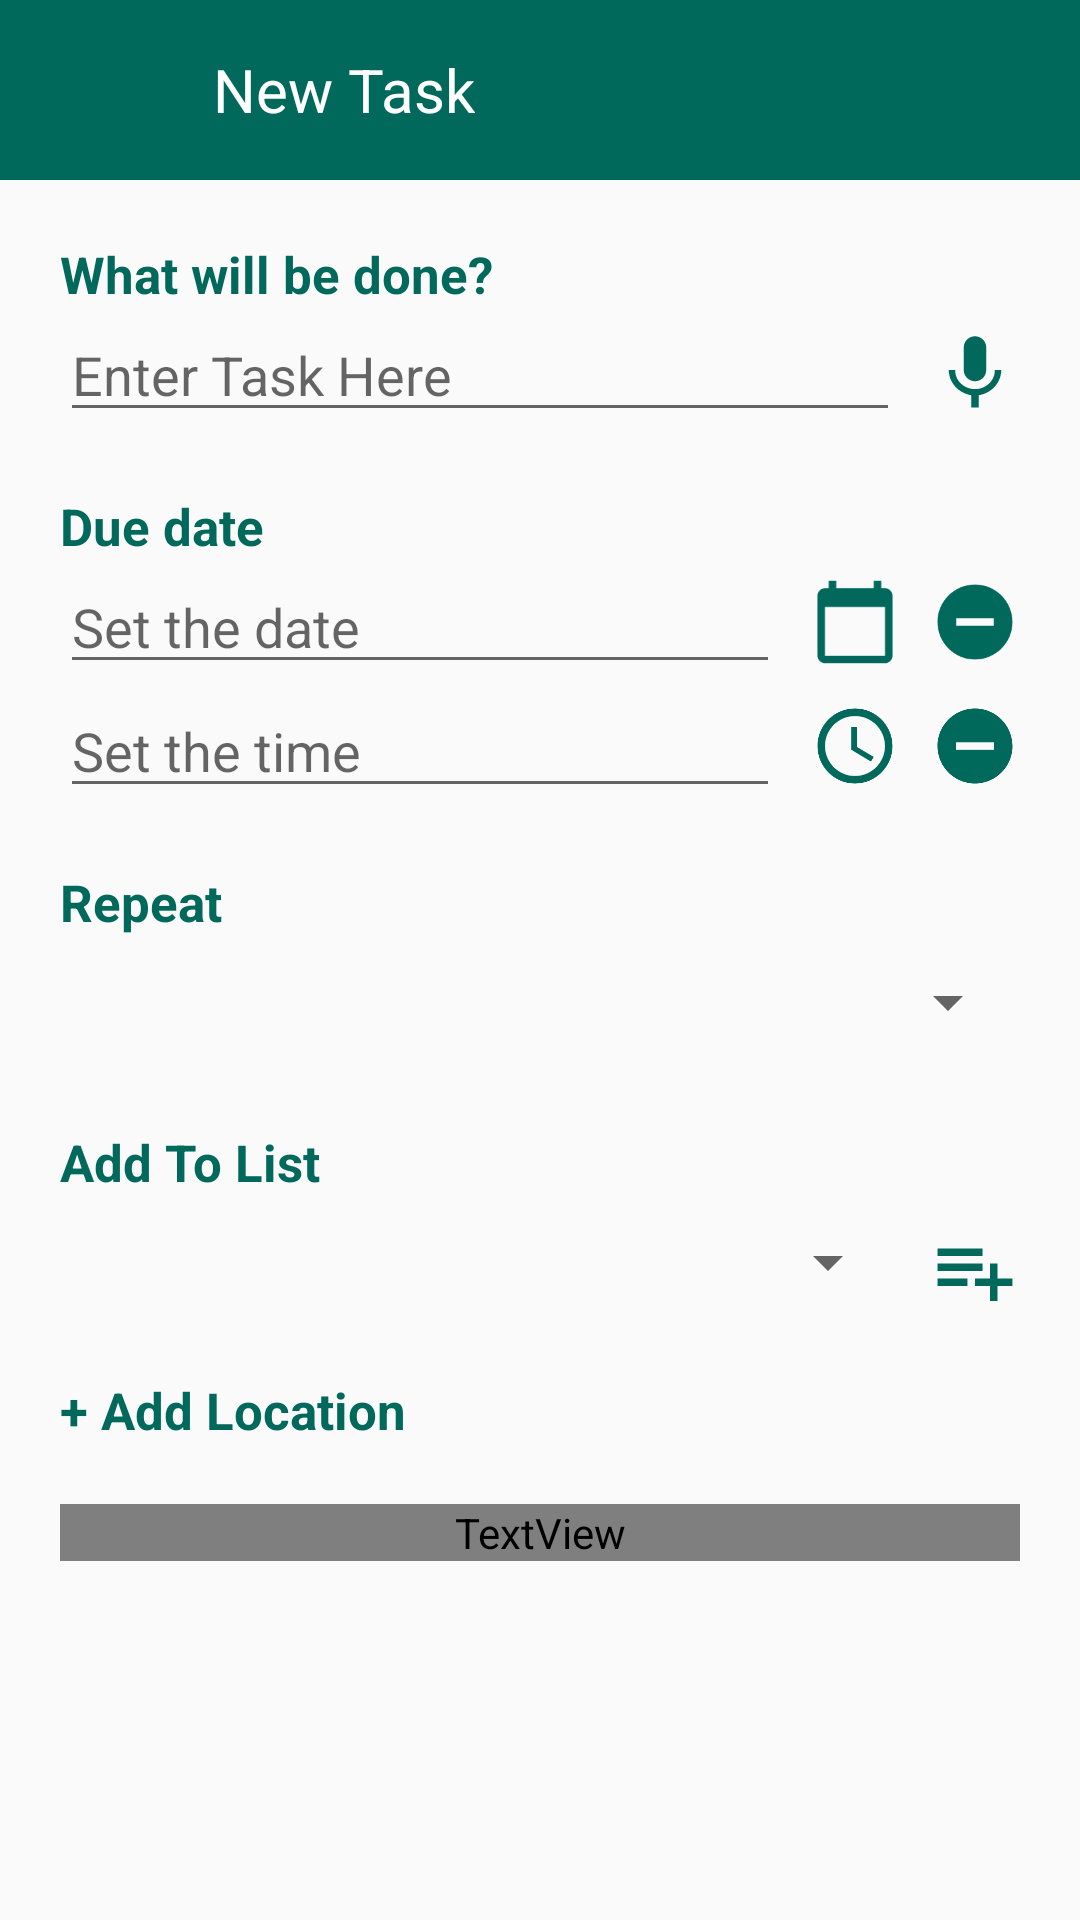

Icon bounding boxes for this 1080px×1920px phone screenshot, format bbox=[x1, y1, x2, y2]:
calendar: bbox=[817, 580, 893, 664]
remove: bbox=[937, 584, 1013, 660], bbox=[937, 708, 1013, 784]
voice: bbox=[948, 336, 1002, 408]
